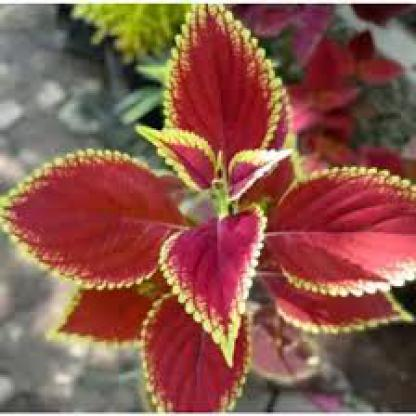Bunga Coleus: (12, 9, 399, 373)
